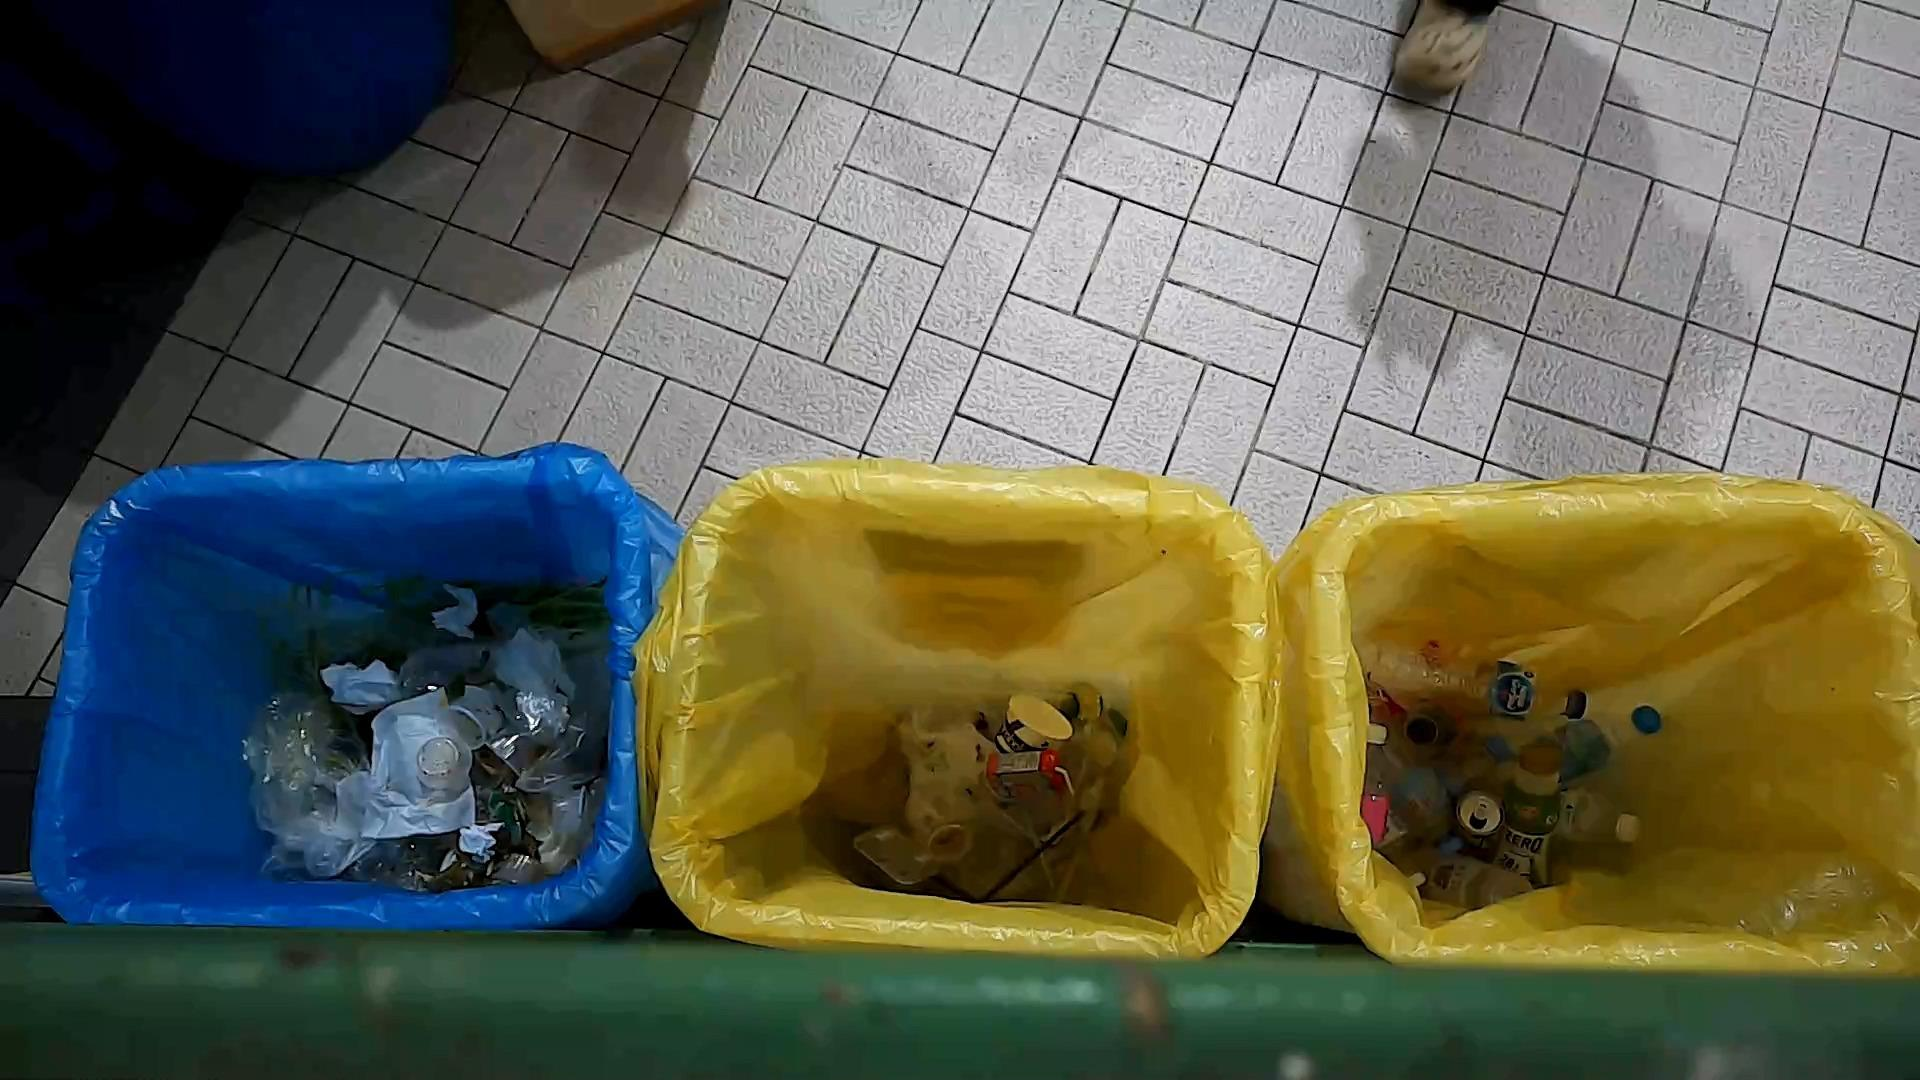can: (1451, 789, 1507, 856)
food container: (848, 824, 942, 891), (994, 691, 1073, 761), (430, 695, 502, 752), (414, 736, 475, 791), (550, 782, 593, 840), (924, 822, 973, 868)
milk carton: (984, 749, 1068, 802)
plastic bag: (240, 712, 376, 880)
plastic bottle: (1369, 630, 1590, 724), (1527, 700, 1665, 782), (1382, 727, 1466, 857), (1499, 746, 1565, 887)
plastic cup: (1402, 848, 1536, 913)
straw: (978, 804, 1089, 902)
tissue paper: (357, 688, 479, 837), (491, 626, 575, 703), (319, 658, 404, 715), (430, 582, 480, 640), (458, 825, 497, 858)
